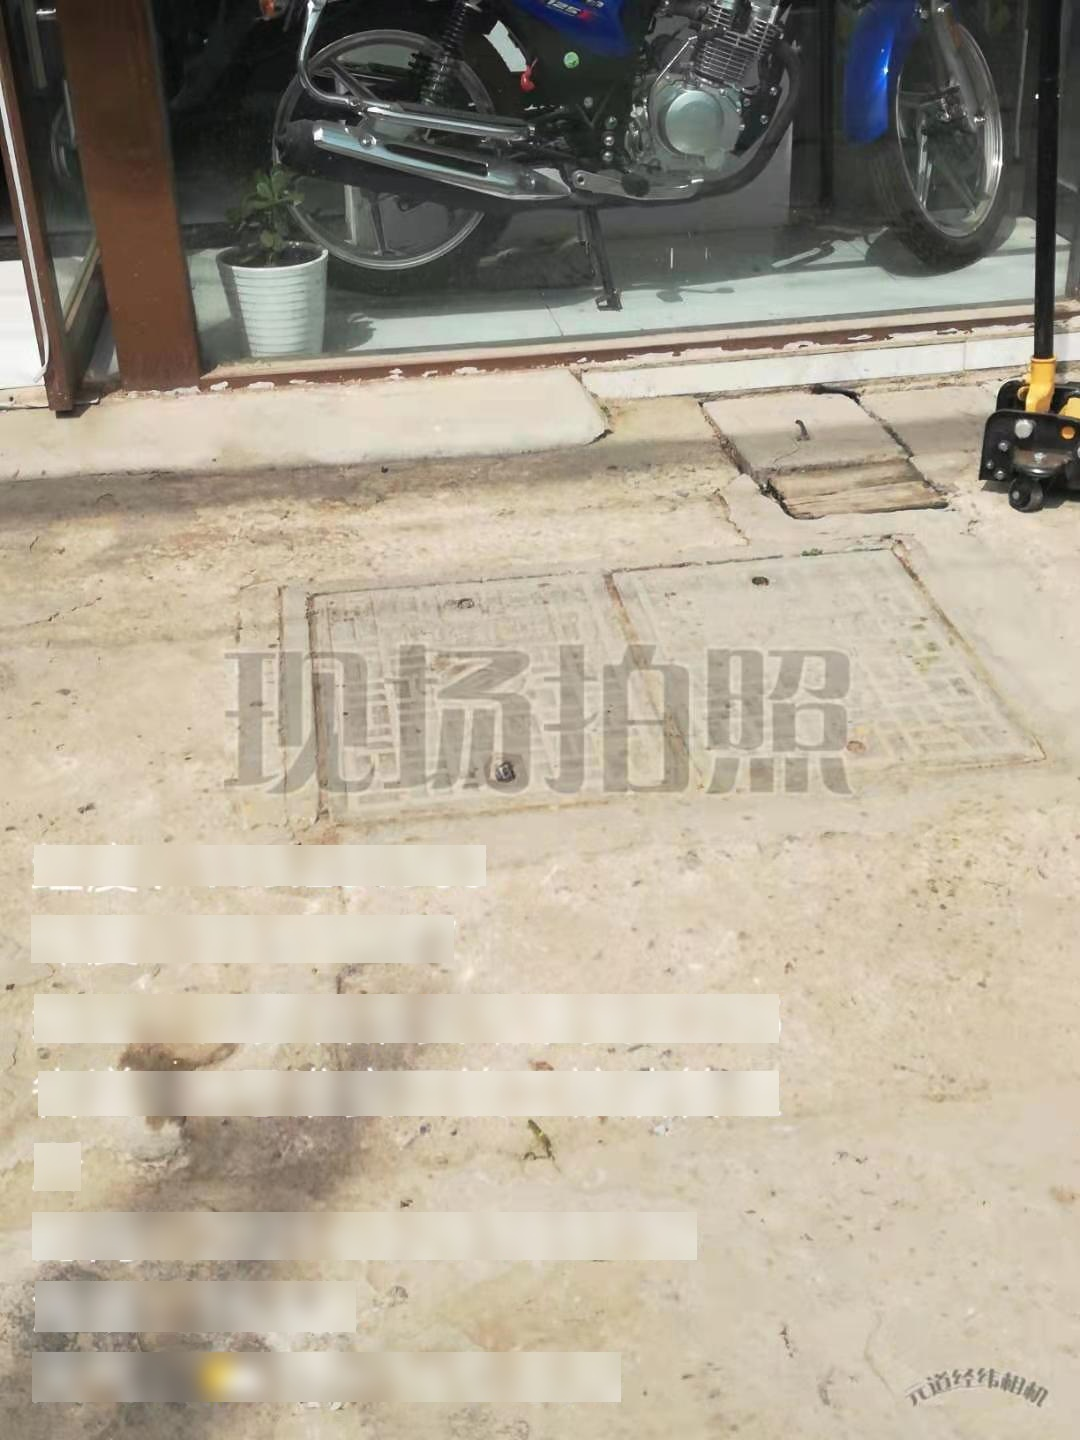well: (5, 0, 1075, 472), (252, 544, 1045, 818)
